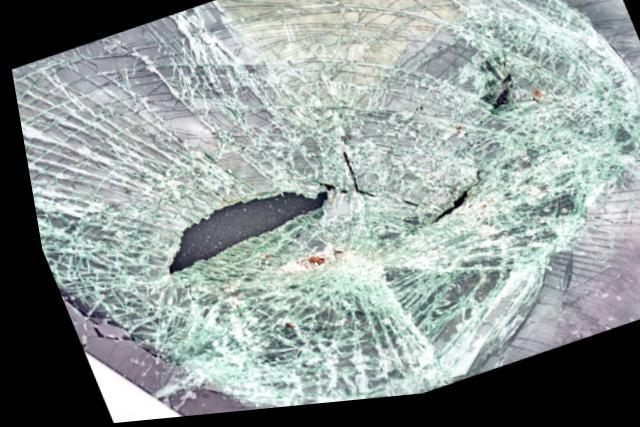glass shatter: (9, 0, 640, 418)
